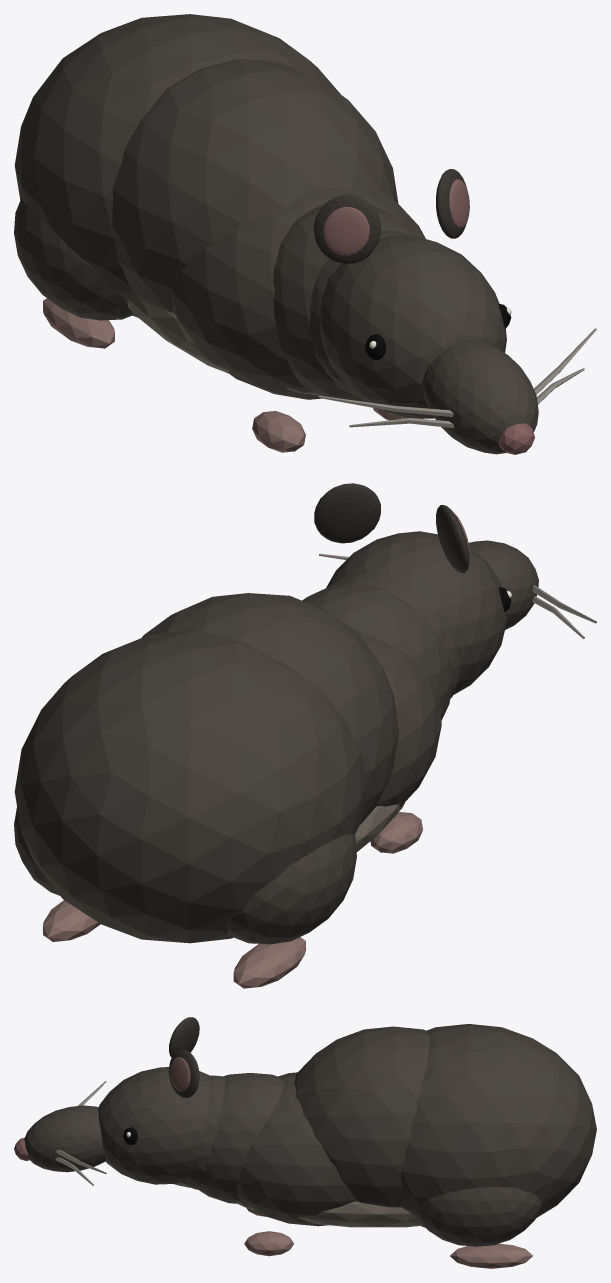
The model's file is TuckBody.obj.
The picture shows the model from 3 angles, top to bottom: view 1: azimuth 30°, elevation 25°; view 2: azimuth 150°, elevation 25°; view 3: azimuth 270°, elevation 25°; orthographic projection. The views are drawn at different scales.
Parts seen in each view (by area): view 1: Fur, Paws, Ear, EarInner, Whiskers, Belly, Nose, Eyes; view 2: Fur, Paws, Ear, Belly, Whiskers; view 3: Fur, Paws, Belly, Ear, EarInner, Whiskers.
Boxes of the visible parts, left/top/right/bottom form: Fur: left=14, top=14, right=538, bottom=454; Paws: left=43, top=298, right=407, bottom=452; Ear: left=314, top=169, right=466, bottom=263; EarInner: left=323, top=179, right=469, bottom=255; Whiskers: left=319, top=328, right=596, bottom=428; Belly: left=127, top=296, right=323, bottom=396; Nose: left=498, top=423, right=534, bottom=454; Eyes: left=365, top=304, right=511, bottom=360; Fur: left=14, top=531, right=538, bottom=944; Paws: left=43, top=812, right=422, bottom=988; Ear: left=314, top=483, right=469, bottom=572; Belly: left=355, top=802, right=404, bottom=851; Whiskers: left=319, top=553, right=596, bottom=639; Fur: left=24, top=1024, right=596, bottom=1246; Paws: left=244, top=1208, right=532, bottom=1268; Belly: left=174, top=1182, right=422, bottom=1227; Ear: left=169, top=1017, right=199, bottom=1098; EarInner: left=170, top=1030, right=190, bottom=1091; Whiskers: left=55, top=1081, right=106, bottom=1185.
Size of the model in its own units: 0.5824 by 0.528 by 1.39.
